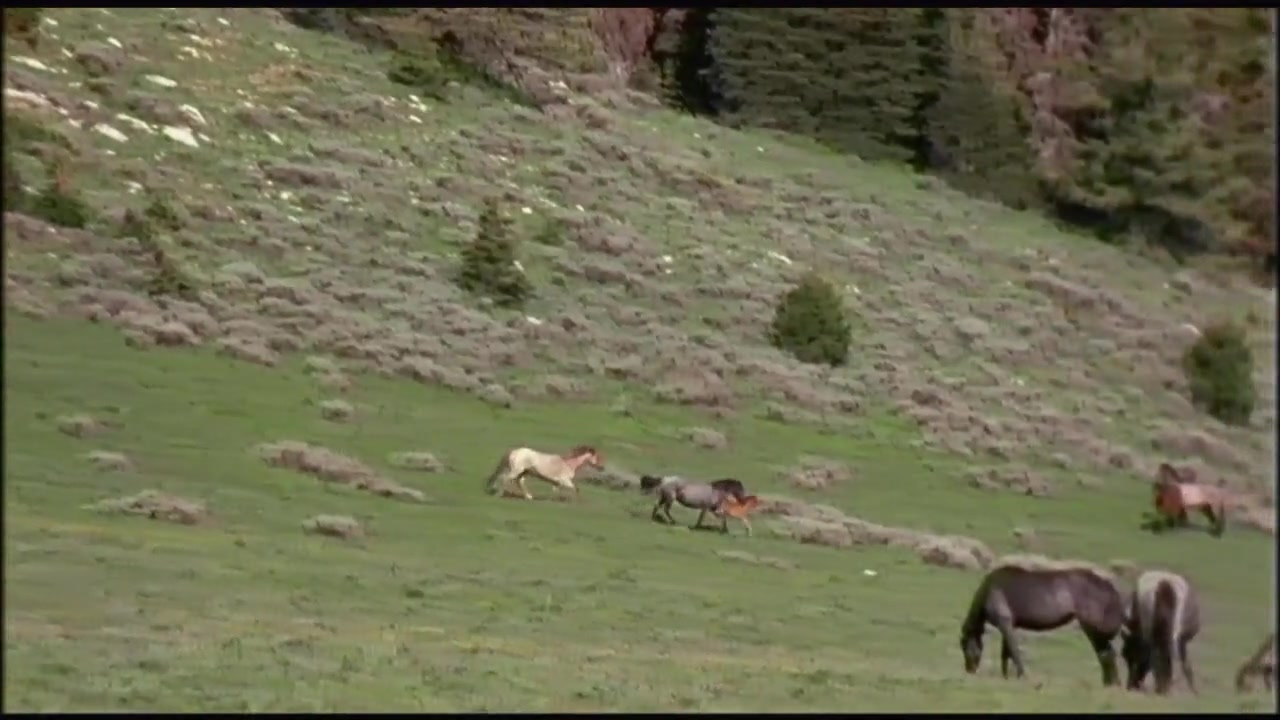horse: (957, 563, 1129, 693)
